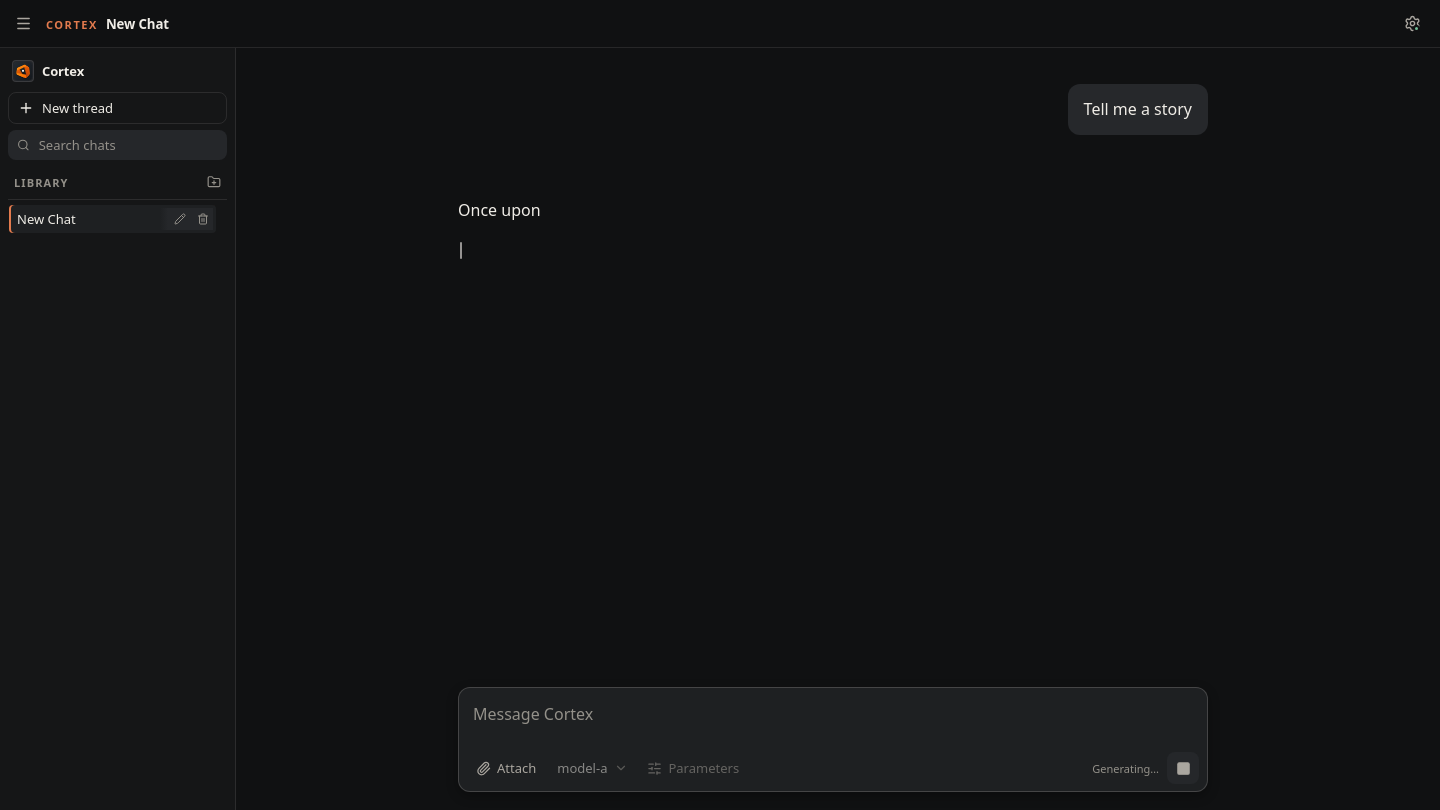
a generation while Settings is open › holds one consumer for the job under StrictMode, through Settings and back
Expected: the text "Tell me a story" is shown, [1084,96,1192,123]
Click the link named "Settings" at (1412, 24), box [1404,15,1420,32]
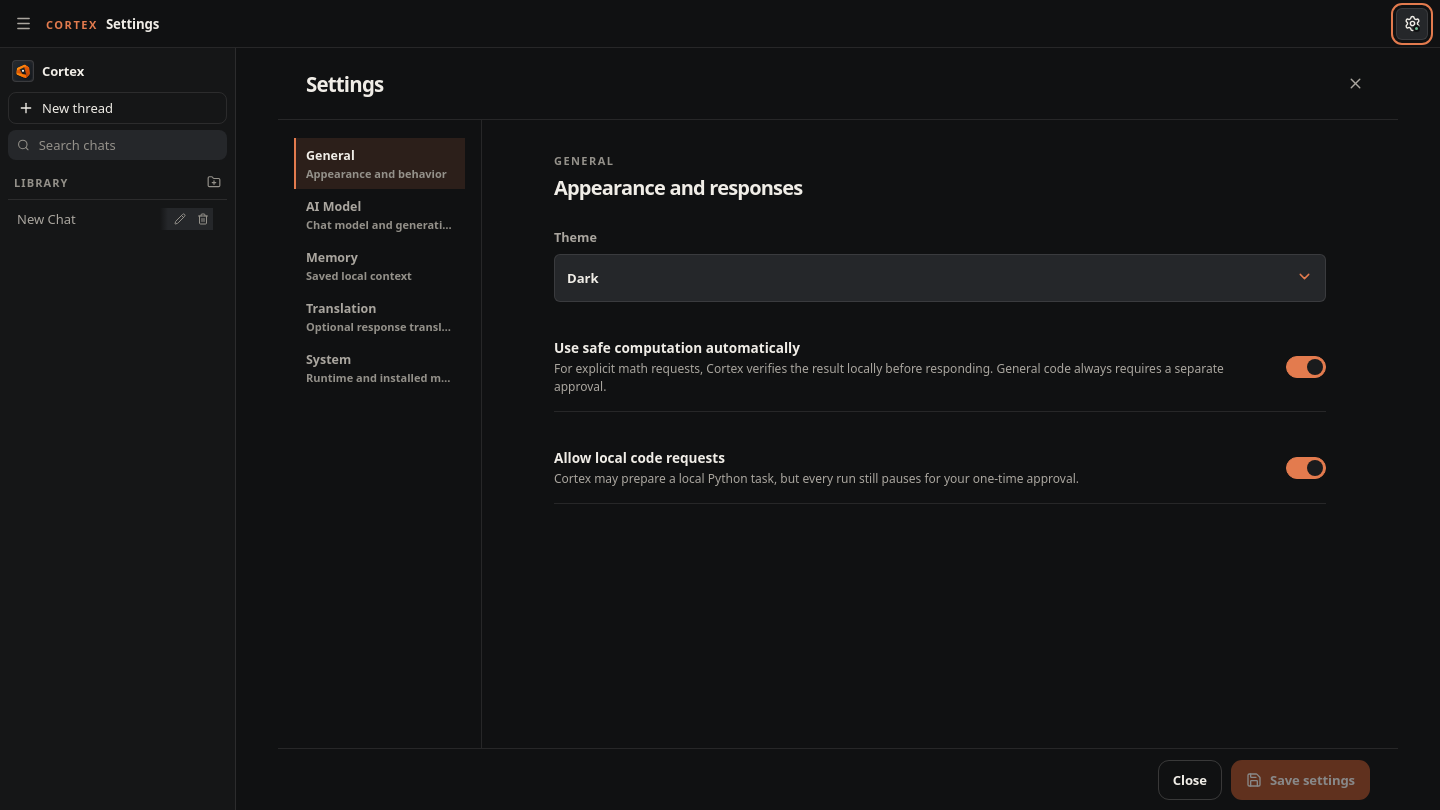
Result: the 2nd heading "Settings" is shown at [306,70,383,98]
Click the button named "Close settings" at (1355, 84), box [1340,68,1370,98]
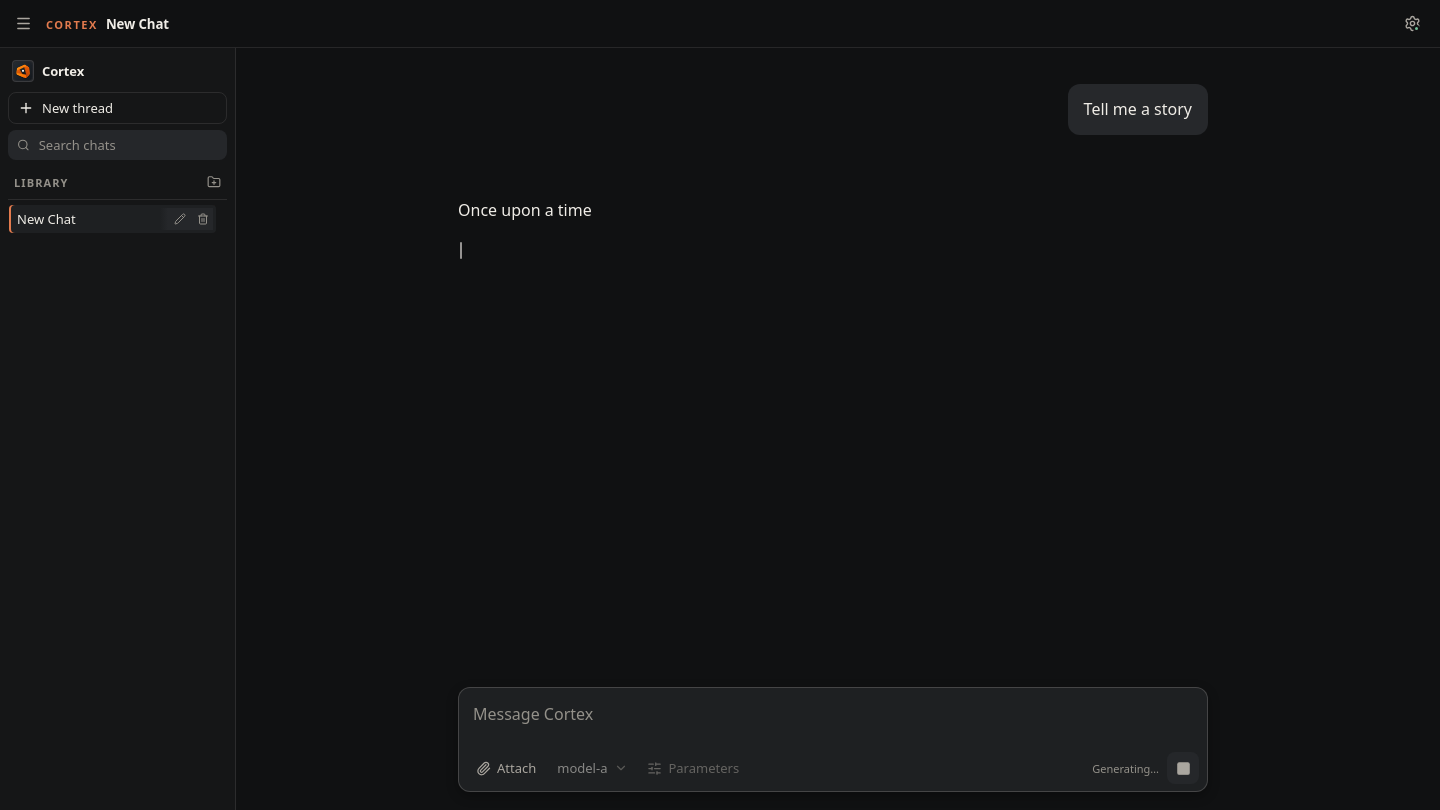
Result: the text box labelled "Message Cortex" is shown at [469,694,1197,748]
Result: the text "Once upon a time" is shown at [458,199,592,221]
